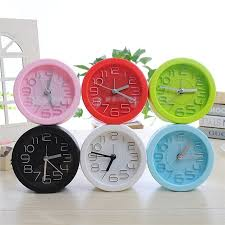alarm_clock: (9, 60, 214, 190), (9, 62, 214, 190)
